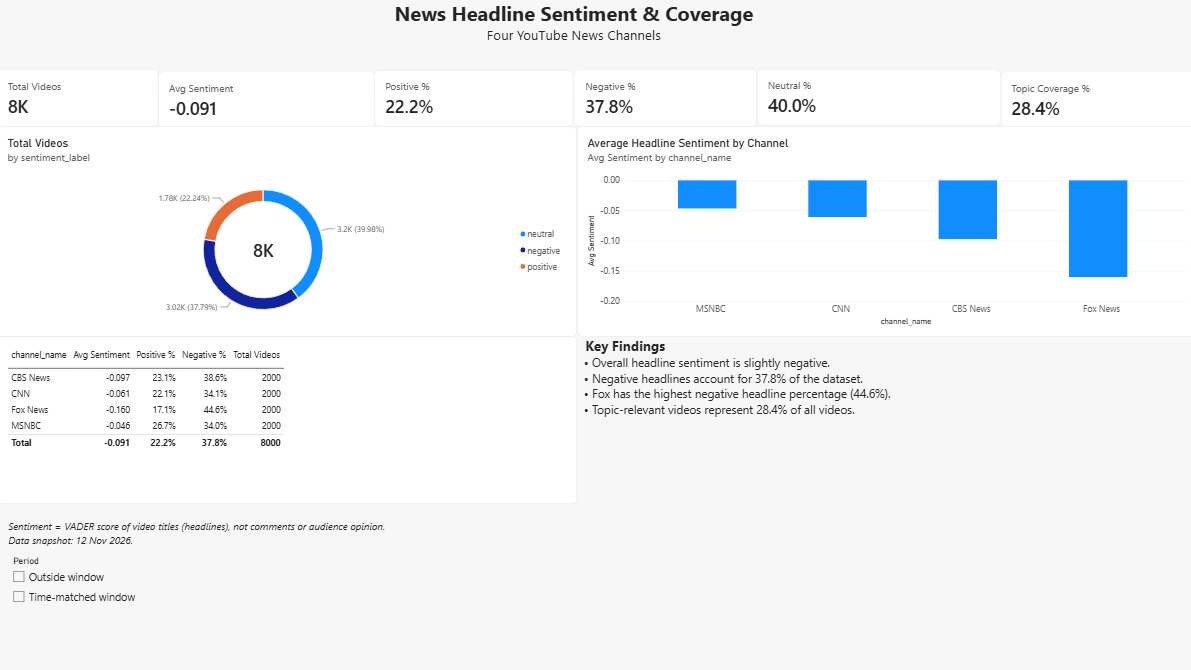

This screenshot's page, from the dashboard's own definition file:
{"tool":"powerbi","page":{"name":"Overview","canvas":[1920,1080],"ordinal":0},"visuals":[{"type":"textbox","box":[378,0,1090,112],"z":1000},{"type":"cardVisual","fields":{"Data":["My Calculations.Total Videos"]},"box":[0,112.2,274.7,92.1],"z":2000},{"type":"cardVisual","fields":{"Data":["My Calculations.Avg Sentiment"]},"box":[274.7,115.6,330,92.1],"z":3000},{"type":"cardVisual","fields":{"Data":["My Calculations.Positive %"]},"box":[604.7,113.9,323.3,90.4],"z":4000},{"type":"cardVisual","fields":{"Data":["My Calculations.Negative %"]},"box":[927.9,112.2,309.9,92.1],"z":5000},{"type":"cardVisual","fields":{"Data":["My Calculations.Neutral %"]},"box":[1237.8,112.2,341.7,90.4],"z":6000},{"type":"cardVisual","fields":{"Data":["My Calculations.Topic Coverage %"]},"box":[1579.5,115.6,340,90.4],"z":7000},{"type":"donutChart","fields":{"Category":["fact_videos.sentiment_label"],"Y":["My Calculations.Total Videos"]},"box":[0,204,928,336],"z":8000},{"type":"clusteredColumnChart","title":"Average Headline Sentiment by Channel","fields":{"Category":["dim_channel.channel_name"],"Y":["My Calculations.Avg Sentiment"]},"box":[928,204,992,336],"z":9000},{"type":"tableEx","fields":{"Values":["dim_channel.channel_name","My Calculations.Avg Sentiment","My Calculations.Positive %","My Calculations.Negative %","My Calculations.Total Videos"]},"box":[0,540,928,268],"z":10000},{"type":"slicer","fields":{"Values":["fact_videos.Period"]},"box":[18,890,1878,190],"z":11000},{"type":"textbox","box":[18,832,1878,58],"z":12000},{"type":"textbox","box":[924,540,996,268],"z":13000}]}

Visuals, with their boxes in screenshot pixels (x1, y1, x2, y2), scaled from the page's 1920x1080 canvas onto the 1191x670 screenshot:
textbox: {"x1": 234, "y1": 0, "x2": 911, "y2": 69}
cardVisual - My Calculations.Total Videos: {"x1": 0, "y1": 70, "x2": 170, "y2": 127}
cardVisual - My Calculations.Avg Sentiment: {"x1": 170, "y1": 72, "x2": 375, "y2": 129}
cardVisual - My Calculations.Positive %: {"x1": 375, "y1": 71, "x2": 576, "y2": 127}
cardVisual - My Calculations.Negative %: {"x1": 576, "y1": 70, "x2": 768, "y2": 127}
cardVisual - My Calculations.Neutral %: {"x1": 768, "y1": 70, "x2": 980, "y2": 126}
cardVisual - My Calculations.Topic Coverage %: {"x1": 980, "y1": 72, "x2": 1190, "y2": 128}
donutChart - fact_videos.sentiment_label x My Calculations.Total Videos: {"x1": 0, "y1": 127, "x2": 576, "y2": 335}
"Average Headline Sentiment by Channel" clusteredColumnChart: {"x1": 576, "y1": 127, "x2": 1190, "y2": 335}
tableEx - dim_channel.channel_name x My Calculations.Avg Sentiment: {"x1": 0, "y1": 335, "x2": 576, "y2": 501}
slicer - fact_videos.Period: {"x1": 11, "y1": 552, "x2": 1176, "y2": 669}
textbox: {"x1": 11, "y1": 516, "x2": 1176, "y2": 552}
textbox: {"x1": 573, "y1": 335, "x2": 1190, "y2": 501}
